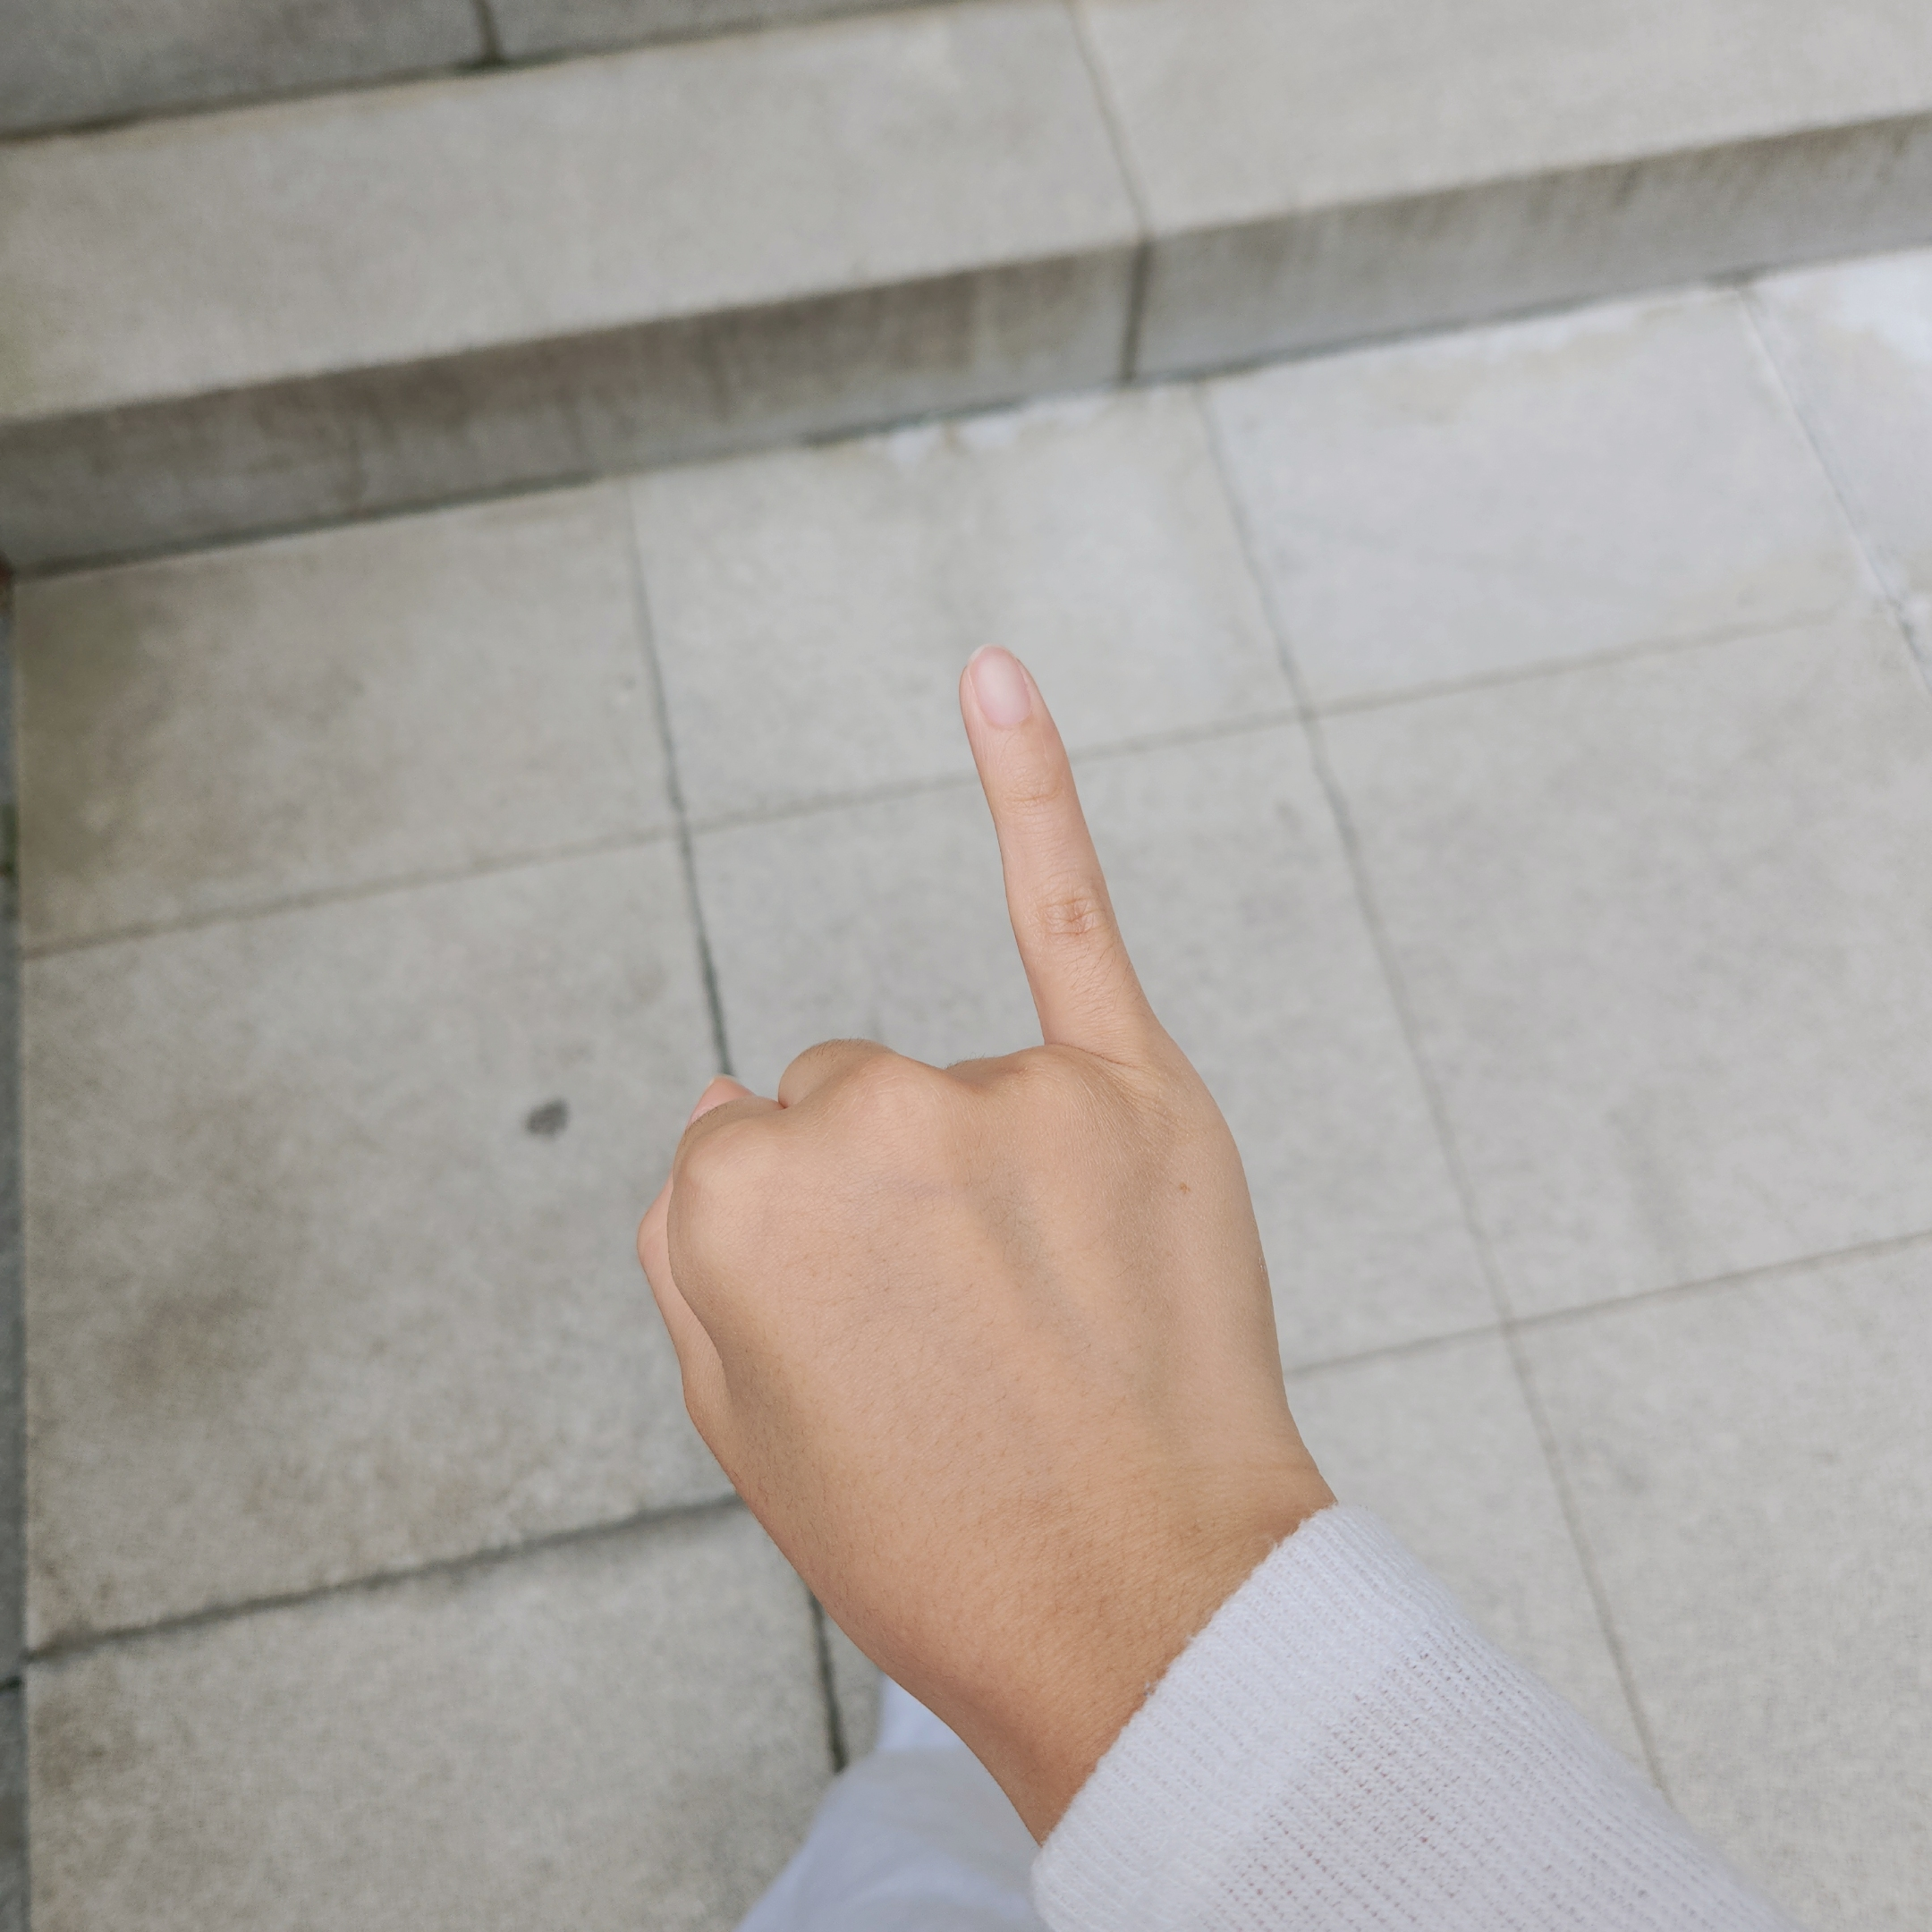fine: (637, 649, 1293, 1702)
